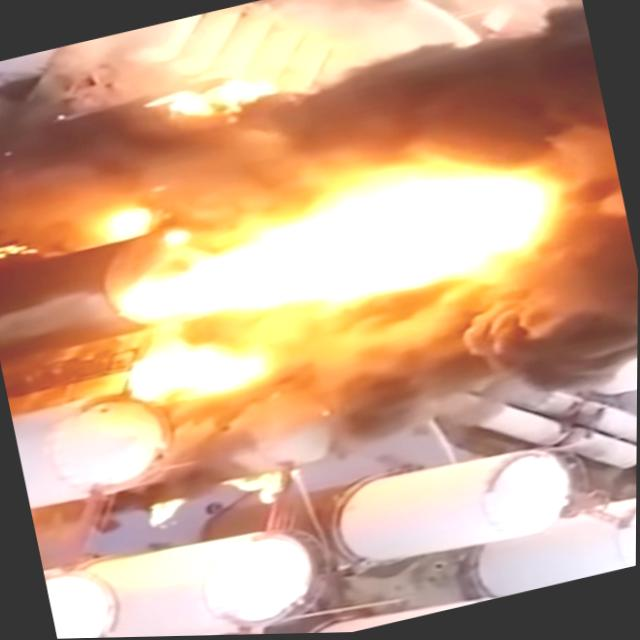fire: (130, 144, 574, 338), (128, 318, 280, 413)
smoke: (20, 9, 608, 257), (494, 218, 639, 401)
